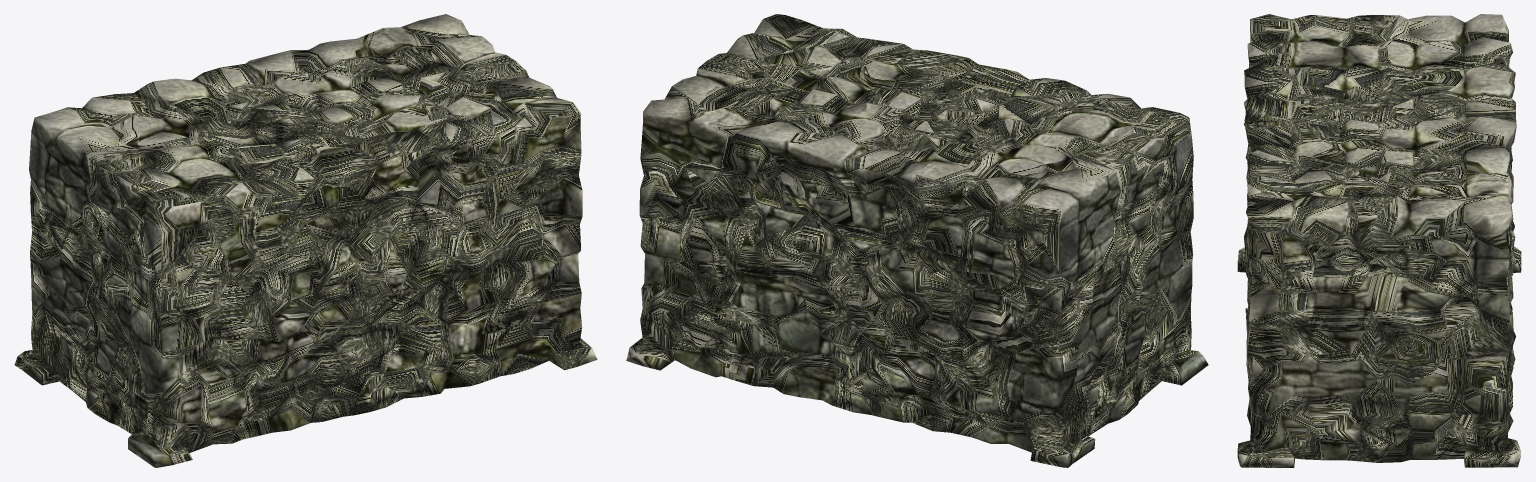
The model's file is stone_wall_lowpoly.glb.
The picture shows the model from 3 angles, left to right: view 1: azimuth 30°, elevation 25°; view 2: azimuth 150°, elevation 25°; view 3: azimuth 270°, elevation 25°; orthographic projection.
Visible parts, largest first — view 1: tripo_node_ed6b48c1-2874-4fbd-b03c-ed5cbd62e8af; view 2: tripo_node_ed6b48c1-2874-4fbd-b03c-ed5cbd62e8af; view 3: tripo_node_ed6b48c1-2874-4fbd-b03c-ed5cbd62e8af.
Part boxes in pixels (<box>): tripo_node_ed6b48c1-2874-4fbd-b03c-ed5cbd62e8af: <box>14,14,597,467</box>; tripo_node_ed6b48c1-2874-4fbd-b03c-ed5cbd62e8af: <box>626,14,1208,467</box>; tripo_node_ed6b48c1-2874-4fbd-b03c-ed5cbd62e8af: <box>1237,14,1521,467</box>.
Bounding box in the file's own units: 0.9736 × 0.5342 × 0.5491.
1 material, 1 textured.
